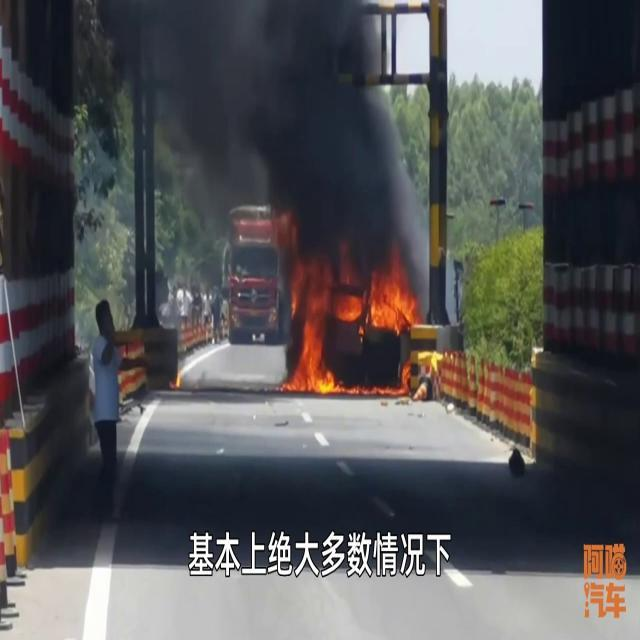Fire: (286, 262, 452, 400)
Smoke: (114, 1, 426, 267)
